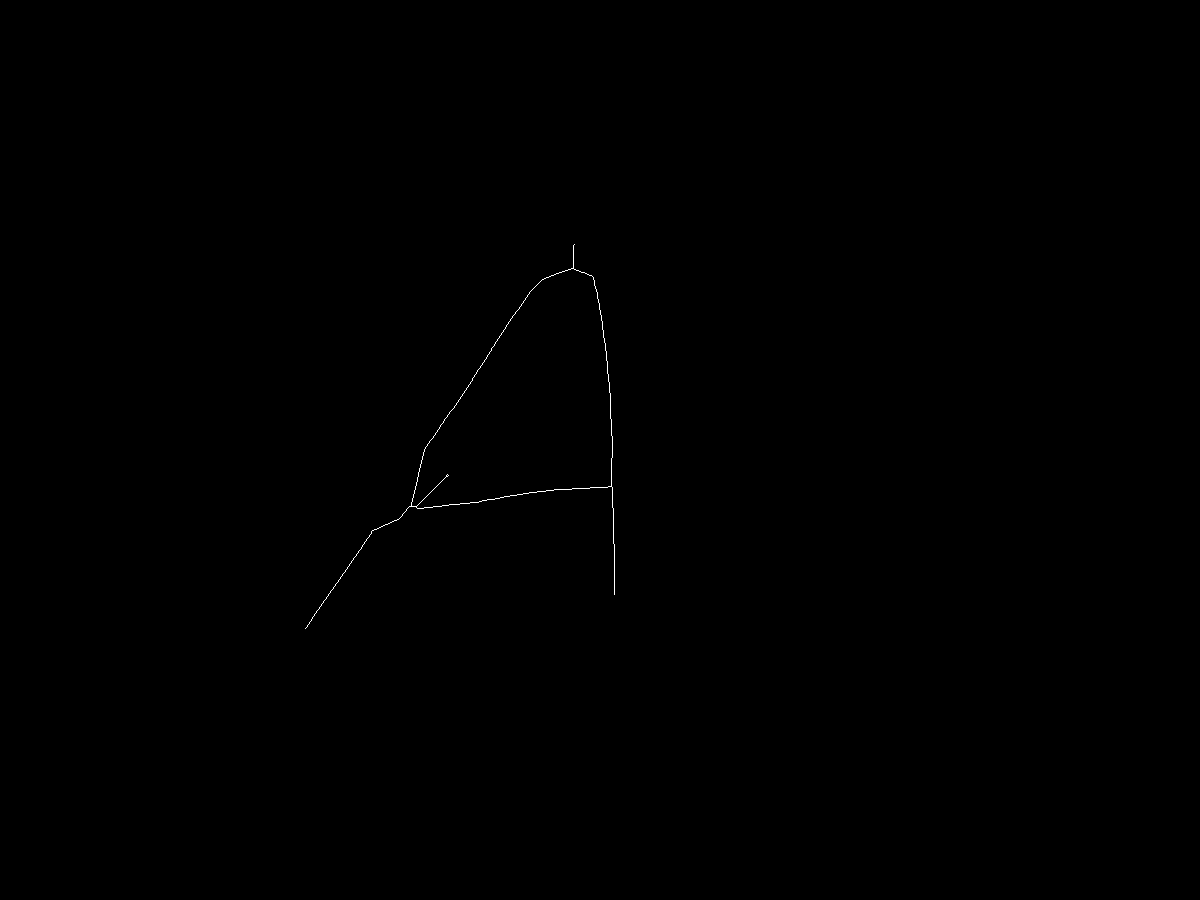dian1: (561, 264, 581, 284)
dian2: (393, 502, 414, 523)
dian3: (299, 620, 317, 638)
dian4: (605, 479, 625, 499)
dian5: (607, 586, 627, 606)
